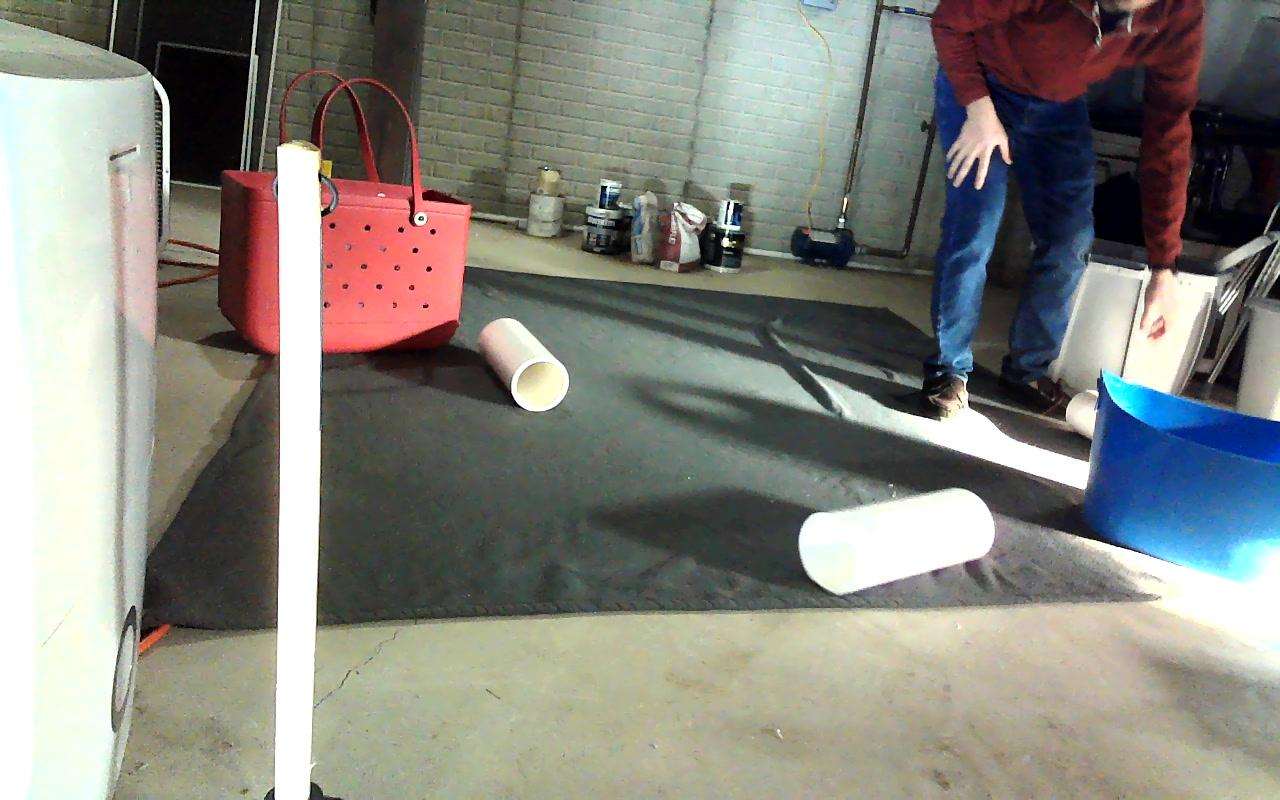coral: (799, 488, 993, 594), (479, 318, 567, 411)
